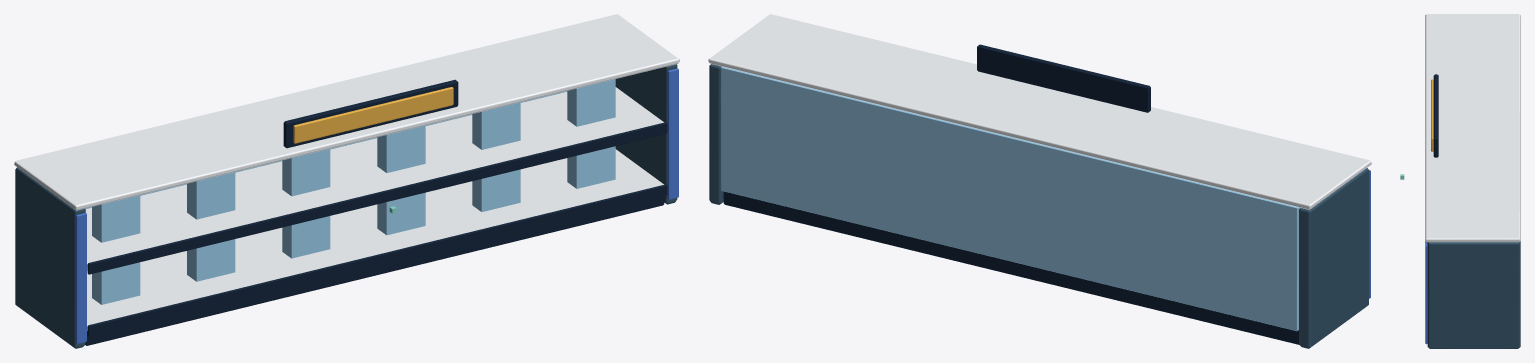
Rendered from CM_Fixture_WaterShelf_Far.fbx.
3 views of the same model, side by side, from view 1: azimuth 30°, elevation 25°; view 2: azimuth 150°, elevation 25°; view 3: azimuth 270°, elevation 25° (orthographic). The views are drawn at different scales.
Parts seen in each view (by area): view 1: Body; view 2: Body; view 3: Body.
Boxes of the visible parts, left/top/right/bottom form: Body: left=14, top=14, right=679, bottom=348; Body: left=708, top=14, right=1371, bottom=348; Body: left=1425, top=14, right=1520, bottom=348.
Size of the model in its own units: 28 by 6.3 by 7.6.
Materials: 1 (1 with a texture image).
